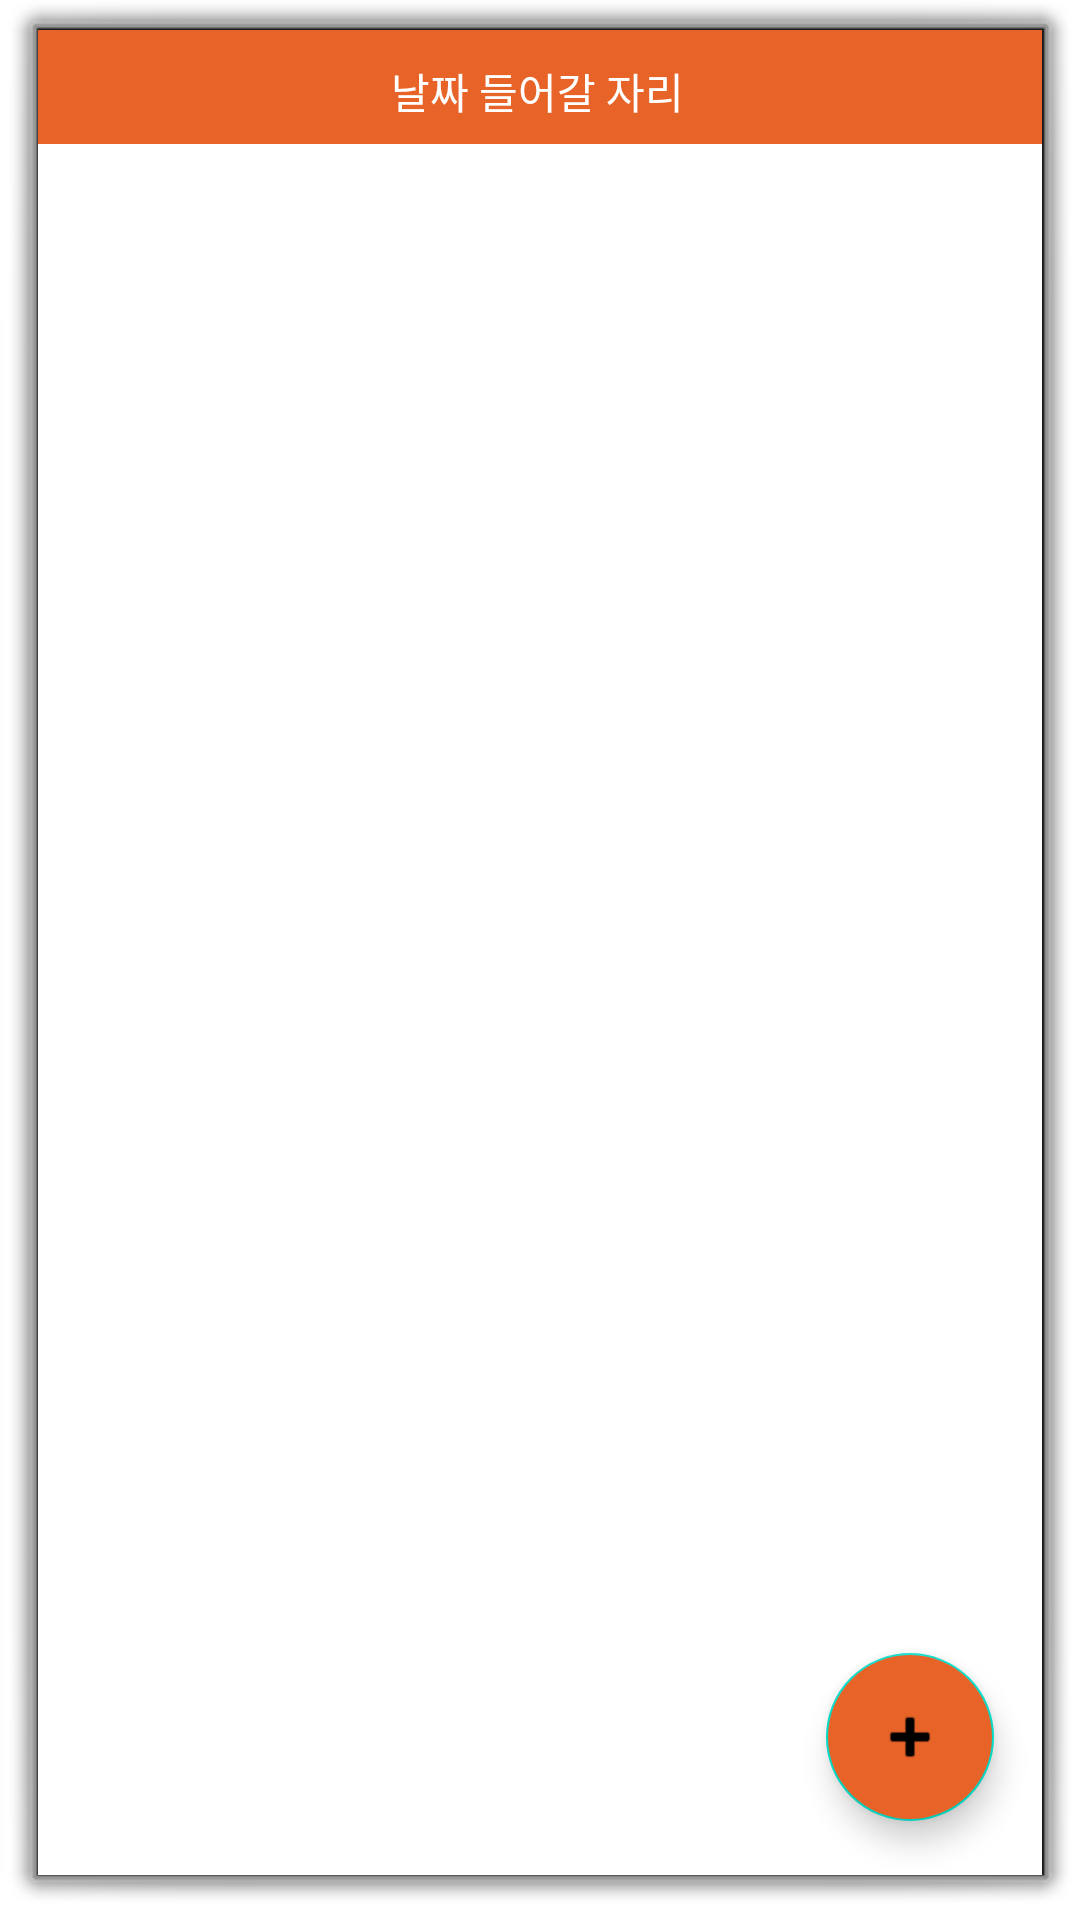

Icons on this 1080x1920 Android screen, each with the point to tap as (x=x, y=y):
add: (x=891, y=1722)
